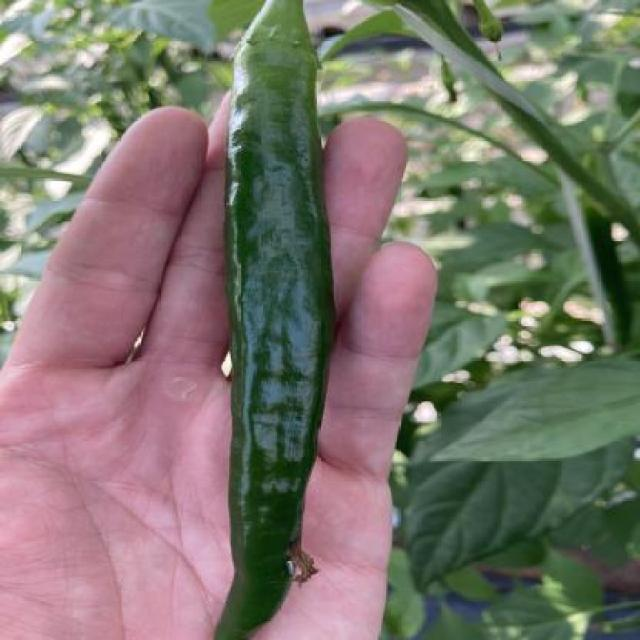green chilli: (214, 40, 335, 640)
